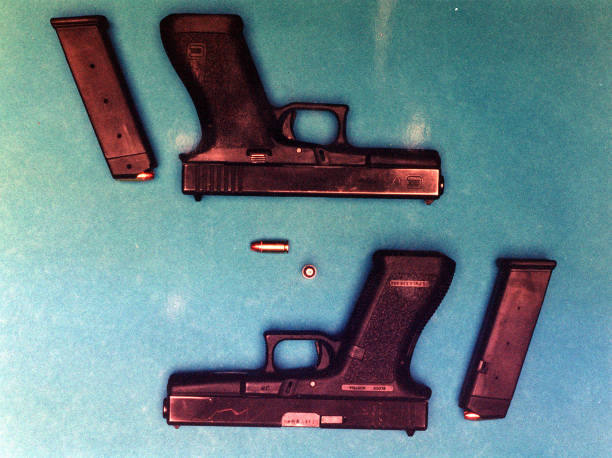pistol: (157, 8, 455, 219), (161, 243, 444, 438)
